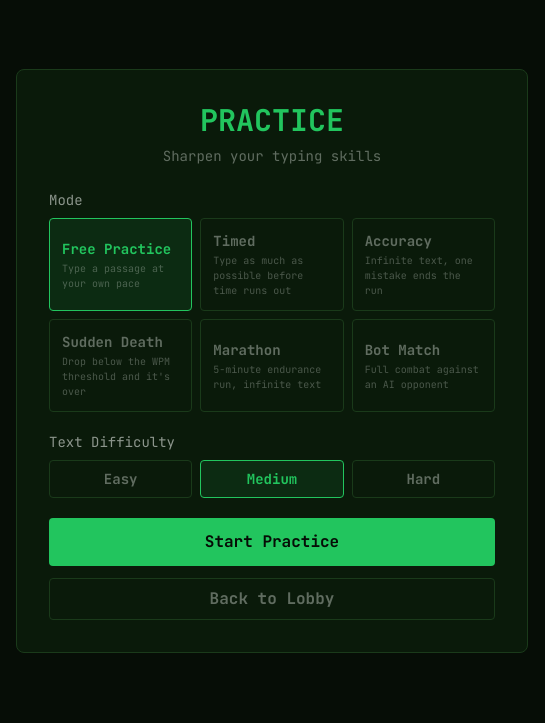
Test: PracticeSetup › bot mode shows bot difficulty options when selected
# Click bot mode
Click the button with test id "mode-bot" at coordinates (423, 366), box [352,319,495,412]
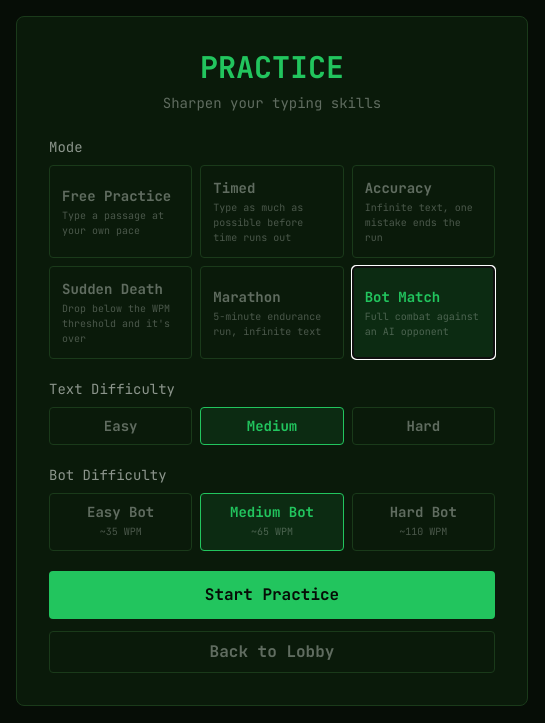
Now the button with test id "bot-easy" is shown, box [49,493,192,551]
Now the button with test id "bot-medium" is shown, box [200,493,344,551]
Now the button with test id "bot-hard" is shown, box [352,493,495,551]
